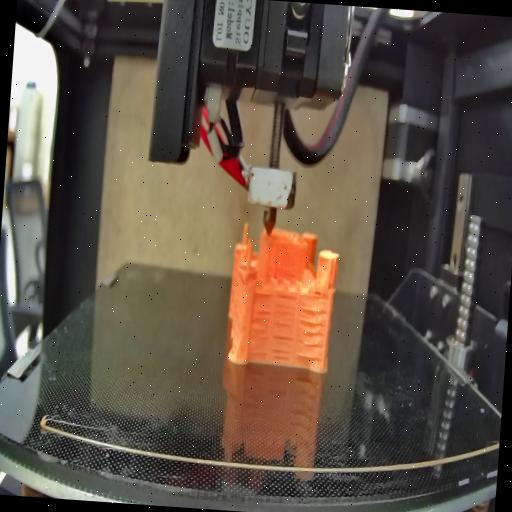cracks: (294, 304, 326, 363), (246, 308, 270, 358), (272, 294, 296, 328), (270, 332, 292, 364), (250, 290, 274, 305), (310, 286, 324, 298)
